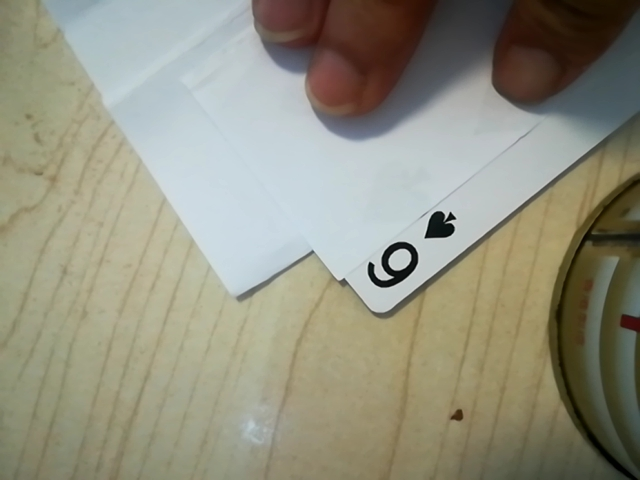ht 6: (350, 197, 467, 308)
